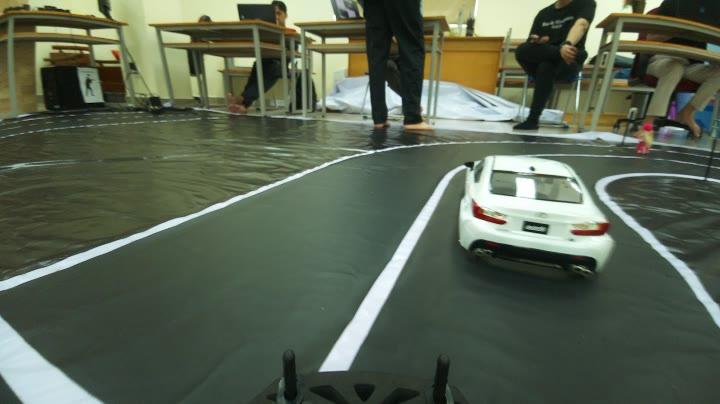car: (456, 138, 620, 272)
